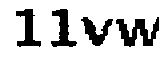1: (10, 5, 43, 54), (47, 4, 78, 53)
v: (81, 10, 115, 49)
w: (117, 13, 159, 55)
